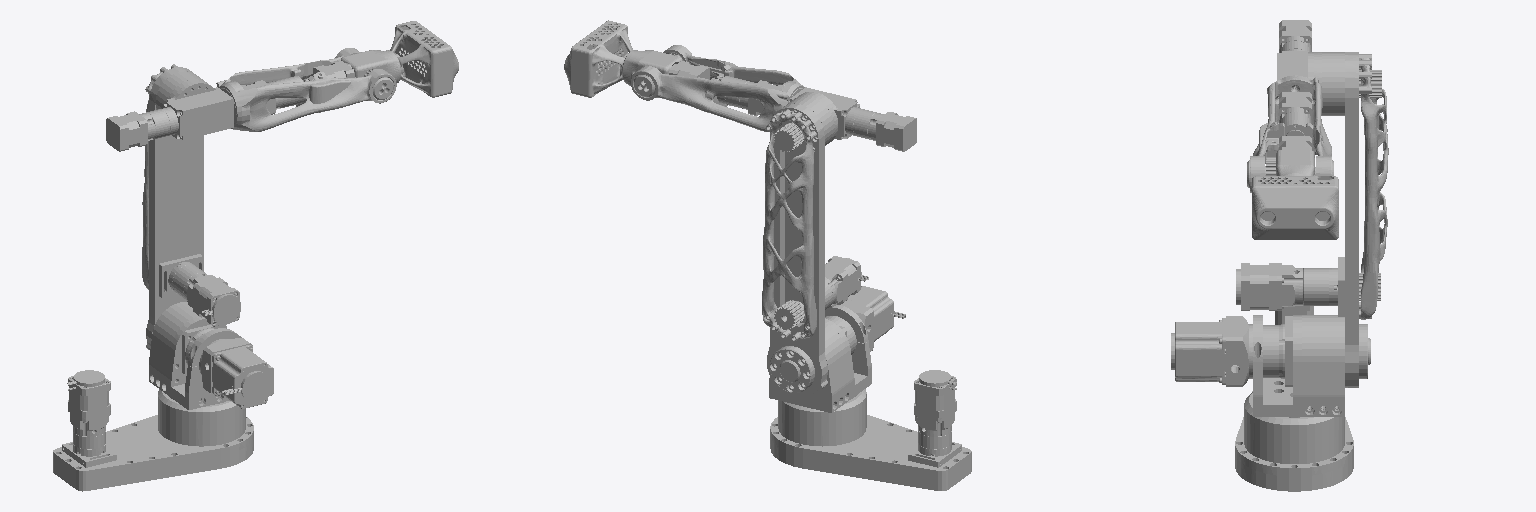
URDF robot description (camera_end_effector_v2):
<?xml version="1.0" encoding="utf-8"?>
<!-- This URDF was automatically created by SolidWorks to URDF Exporter! Originally created by [author] ([email redacted]) 
     Commit Version: 1.6.0-4-g7f85cfe  Build Version: 1.6.7995.38578
     For more information, please see http://wiki.ros.org/sw_urdf_exporter -->
<robot
  name="camera_end_effector_v2">
  <link
    name="base_link">
    <inertial>
      <origin
        xyz="-0.0387987092908609 0.0390369970391742 -5.67710647887378E-08"
        rpy="0 0 0" />
      <mass
        value="4.03703382968674" />
      <inertia
        ixx="0.00474847813285011"
        ixy="2.5451843630858E-06"
        ixz="-6.99360908648324E-08"
        iyy="0.0159793929849106"
        iyz="4.4736579446005E-10"
        izz="0.0121401207066325" />
    </inertial>
    <visual>
      <origin
        xyz="0 0 0"
        rpy="0 0 0" />
      <geometry>
        <mesh
          filename="package://camera_end_effector_v2/meshes/base_link.STL" />
      </geometry>
      <material
        name="">
        <color
          rgba="0.752941176470588 0.752941176470588 0.752941176470588 1" />
      </material>
    </visual>
    <collision>
      <origin
        xyz="0 0 0"
        rpy="0 0 0" />
      <geometry>
        <mesh
          filename="package://camera_end_effector_v2/meshes/base_link.STL" />
      </geometry>
    </collision>
  </link>
  <link
    name="j2">
    <inertial>
      <origin
        xyz="-0.0212447962125669 4.82312181396935E-05 -0.105390345923698"
        rpy="0 0 0" />
      <mass
        value="0.977314751959421" />
      <inertia
        ixx="0.000705624664164402"
        ixy="-1.92139584847809E-07"
        ixz="2.86777147302527E-06"
        iyy="0.000519513395370273"
        iyz="3.14623227227998E-07"
        izz="0.000679886789996013" />
    </inertial>
    <visual>
      <origin
        xyz="0 0 0"
        rpy="0 0 0" />
      <geometry>
        <mesh
          filename="package://camera_end_effector_v2/meshes/j2.STL" />
      </geometry>
      <material
        name="">
        <color
          rgba="0.752941176470588 0.752941176470588 0.752941176470588 1" />
      </material>
    </visual>
    <collision>
      <origin
        xyz="0 0 0"
        rpy="0 0 0" />
      <geometry>
        <mesh
          filename="package://camera_end_effector_v2/meshes/j2.STL" />
      </geometry>
    </collision>
  </link>
  <joint
    name="j2"
    type="revolute">
    <origin
      xyz="0 0 0"
      rpy="3.1416 0 1.5708" />
    <parent
      link="base_link" />
    <child
      link="j2" />
    <axis
      xyz="0 0 1" />
    <limit
      lower="-1.57"
      upper="1.57"
      effort="50"
      velocity="10" />
  </joint>
  <link
    name="j3">
    <inertial>
      <origin
        xyz="0.044980071416487 -5.35948514180058E-05 -0.128060536605172"
        rpy="0 0 0" />
      <mass
        value="0.685177148843114" />
      <inertia
        ixx="0.00441405518789586"
        ixy="-4.0772924022017E-08"
        ixz="-1.4273703108297E-05"
        iyy="0.00419104754809763"
        iyz="-9.08788530341661E-07"
        izz="0.000334095696256245" />
    </inertial>
    <visual>
      <origin
        xyz="0 0 0"
        rpy="0 0 0" />
      <geometry>
        <mesh
          filename="package://camera_end_effector_v2/meshes/j3.STL" />
      </geometry>
      <material
        name="">
        <color
          rgba="0.752941176470588 0.752941176470588 0.752941176470588 1" />
      </material>
    </visual>
    <collision>
      <origin
        xyz="0 0 0"
        rpy="0 0 0" />
      <geometry>
        <mesh
          filename="package://camera_end_effector_v2/meshes/j3.STL" />
      </geometry>
    </collision>
  </link>
  <joint
    name="j3"
    type="revolute">
    <origin
      xyz="0 0 -0.1385"
      rpy="0 0 0" />
    <parent
      link="j2" />
    <child
      link="j3" />
    <axis
      xyz="1 0 0" />
    <limit
      lower="-1.57"
      upper="1.57"
      effort="50"
      velocity="10" />
  </joint>
  <link
    name="j4">
    <inertial>
      <origin
        xyz="0.0162127600687066 -0.0350755946904497 1.97404980978311E-06"
        rpy="0 0 0" />
      <mass
        value="0.233021484761836" />
      <inertia
        ixx="7.02674799345136E-05"
        ixy="1.31649924403056E-09"
        ixz="2.82915545204911E-14"
        iyy="6.79387907617448E-05"
        iyz="8.33234450666045E-14"
        izz="6.50999842227108E-05" />
    </inertial>
    <visual>
      <origin
        xyz="0 0 0"
        rpy="0 0 0" />
      <geometry>
        <mesh
          filename="package://camera_end_effector_v2/meshes/j4.STL" />
      </geometry>
      <material
        name="">
        <color
          rgba="0.752941176470588 0.752941176470588 0.752941176470588 1" />
      </material>
    </visual>
    <collision>
      <origin
        xyz="0 0 0"
        rpy="0 0 0" />
      <geometry>
        <mesh
          filename="package://camera_end_effector_v2/meshes/j4.STL" />
      </geometry>
    </collision>
  </link>
  <joint
    name="j4"
    type="revolute">
    <origin
      xyz="0 0 -0.322"
      rpy="0 0 0" />
    <parent
      link="j3" />
    <child
      link="j4" />
    <axis
      xyz="1 0 0" />
    <limit
      lower="-1.57"
      upper="1.57"
      effort="50"
      velocity="10" />
  </joint>
  <link
    name="j5">
    <inertial>
      <origin
        xyz="-0.000843996402465412 0.101806023547875 0.000279122515554786"
        rpy="0 0 0" />
      <mass
        value="0.282589558912825" />
      <inertia
        ixx="0.000654988616952571"
        ixy="1.93220591934381E-05"
        ixz="-1.31514059496871E-06"
        iyy="0.000177128963073579"
        iyz="8.45323519862778E-07"
        izz="0.000742965552308006" />
    </inertial>
    <visual>
      <origin
        xyz="0 0 0"
        rpy="0 0 0" />
      <geometry>
        <mesh
          filename="package://camera_end_effector_v2/meshes/j5.STL" />
      </geometry>
      <material
        name="">
        <color
          rgba="0.752941176470588 0.752941176470588 0.752941176470588 1" />
      </material>
    </visual>
    <collision>
      <origin
        xyz="0 0 0"
        rpy="0 0 0" />
      <geometry>
        <mesh
          filename="package://camera_end_effector_v2/meshes/j5.STL" />
      </geometry>
    </collision>
  </link>
  <joint
    name="j5"
    type="revolute">
    <origin
      xyz="0 0 0"
      rpy="0 0 0" />
    <parent
      link="j4" />
    <child
      link="j5" />
    <axis
      xyz="0 1 0" />
    <limit
      lower="-1.57"
      upper="1.57"
      effort="50"
      velocity="10" />
  </joint>
  <link
    name="j6">
    <inertial>
      <origin
        xyz="-0.00030632848636733 -0.00933484349547609 -1.08036928580524E-05"
        rpy="0 0 0" />
      <mass
        value="0.152159925236746" />
      <inertia
        ixx="3.71253243134052E-05"
        ixy="-1.28772096124384E-06"
        ixz="5.11904217059785E-09"
        iyy="4.16737518057278E-05"
        iyz="4.96996654743766E-08"
        izz="4.20987856135388E-05" />
    </inertial>
    <visual>
      <origin
        xyz="0 0 0"
        rpy="0 0 0" />
      <geometry>
        <mesh
          filename="package://camera_end_effector_v2/meshes/j6.STL" />
      </geometry>
      <material
        name="">
        <color
          rgba="0.752941176470588 0.752941176470588 0.752941176470588 1" />
      </material>
    </visual>
    <collision>
      <origin
        xyz="0 0 0"
        rpy="0 0 0" />
      <geometry>
        <mesh
          filename="package://camera_end_effector_v2/meshes/j6.STL" />
      </geometry>
    </collision>
  </link>
  <joint
    name="j6"
    type="revolute">
    <origin
      xyz="0 0.23275 0"
      rpy="0 0 0" />
    <parent
      link="j5" />
    <child
      link="j6" />
    <axis
      xyz="1 0 0" />
    <limit
      lower="-1.57"
      upper="1.57"
      effort="50"
      velocity="10" />
  </joint>
  <link
    name="ef">
    <inertial>
      <origin
        xyz="1.545698860585E-06 0.0568924023324697 -0.000791415492656433"
        rpy="0 0 0" />
      <mass
        value="0.107977508673164" />
      <inertia
        ixx="6.86612595920387E-05"
        ixy="2.95991972045628E-08"
        ixz="-3.56197454253606E-07"
        iyy="0.0001105363264339"
        iyz="5.63376627819758E-07"
        izz="0.000105652774356587" />
    </inertial>
    <visual>
      <origin
        xyz="0 0 0"
        rpy="0 0 0" />
      <geometry>
        <mesh
          filename="package://camera_end_effector_v2/meshes/ef.STL" />
      </geometry>
      <material
        name="">
        <color
          rgba="0.752941176470588 0.752941176470588 0.752941176470588 1" />
      </material>
    </visual>
    <collision>
      <origin
        xyz="0 0 0"
        rpy="0 0 0" />
      <geometry>
        <mesh
          filename="package://camera_end_effector_v2/meshes/ef.STL" />
      </geometry>
    </collision>
  </link>
  <joint
    name="ef"
    type="revolute">
    <origin
      xyz="0.001 0.02775 0"
      rpy="0 0 0" />
    <parent
      link="j6" />
    <child
      link="ef" />
    <axis
      xyz="0 1 0" />
    <limit
      lower="-1.57"
      upper="1.57"
      effort="50"
      velocity="10" />
  </joint>
</robot>

--- What the picture shows (computed from the rendered views, not written in the file) ---
3 views of the same robot in one strip: view 1: azimuth 30°, elevation 25°; view 2: azimuth 150°, elevation 25°; view 3: azimuth 270°, elevation 25° (orthographic).
Model camera_end_effector_v2 with 7 links and 6 joints (6 revolute), rooted at base_link, posed all joints at 0.
Visible links, largest first — view 1: base_link, j3, j2, j5, j4, ef, j6; view 2: j3, base_link, j5, j2, j4, ef, j6; view 3: j3, j2, base_link, ef, j5, j4, j6.
Link boxes in pixels (x1,y1,x2,y2): base_link: [53, 370, 253, 491]; j3: [142, 64, 240, 349]; j2: [149, 302, 273, 409]; j5: [216, 48, 396, 131]; j4: [106, 79, 233, 151]; ef: [390, 21, 458, 97]; j6: [313, 50, 400, 99]; j3: [762, 96, 868, 397]; base_link: [770, 370, 971, 490]; j5: [631, 45, 804, 131]; j2: [769, 286, 905, 412]; j4: [774, 87, 916, 152]; ef: [564, 20, 632, 97]; j6: [622, 50, 709, 96]; j3: [1236, 52, 1388, 387]; j2: [1171, 315, 1344, 417]; base_link: [1235, 306, 1353, 491]; ef: [1252, 175, 1338, 239]; j5: [1250, 75, 1331, 192]; j4: [1277, 20, 1381, 97]; j6: [1247, 136, 1333, 187].
Size in the robot's own frame: 0.544 by 0.2375 by 0.4955 metres.
Meshes: 7 distinct files referenced, 7 mesh visuals loaded (7 binary STL).